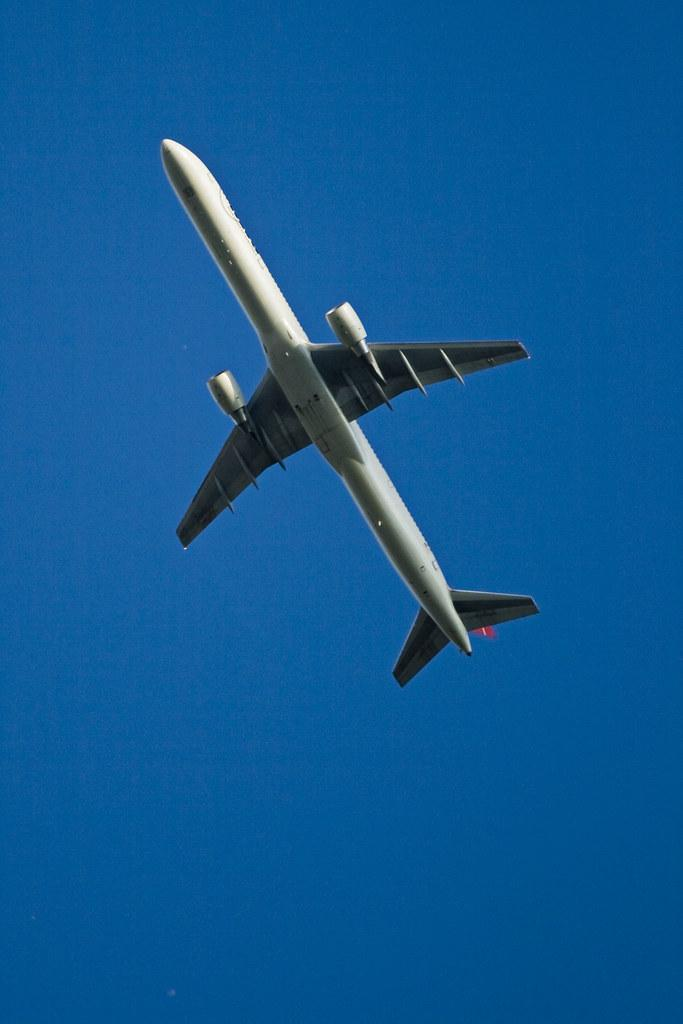plane: (159, 137, 540, 688)
